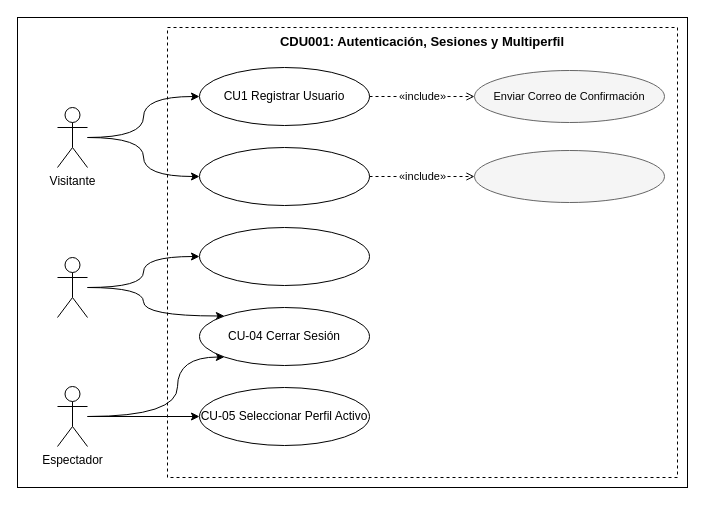
Image size: 705x505. Some labels were removed from this diagram. The shapes that lost their labels are listed below. From the top down, each one's centre as x and y in pixels, then its label:
point 284,176: CU02 Iniciar Sesión
point 569,176: Generar JWT y Cookie de Sesión
point 284,256: CU-03 Administrar Perfiles
point 72,287: Titular de la Cuenta
